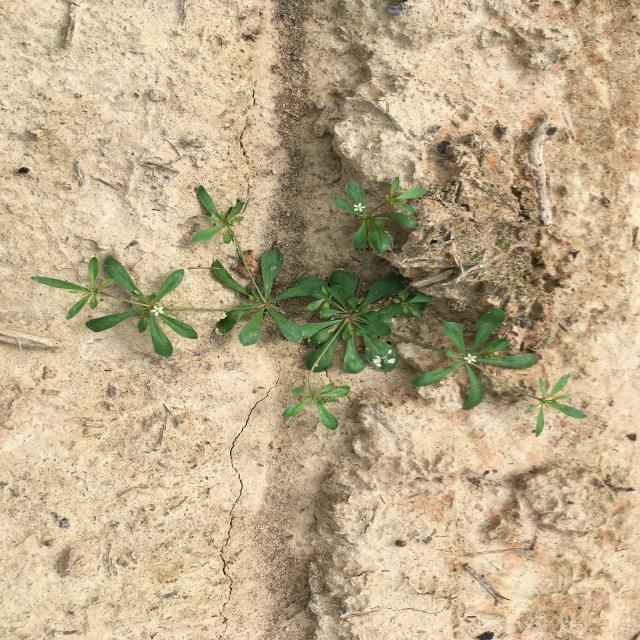Carpetweed: (29, 176, 588, 437)
